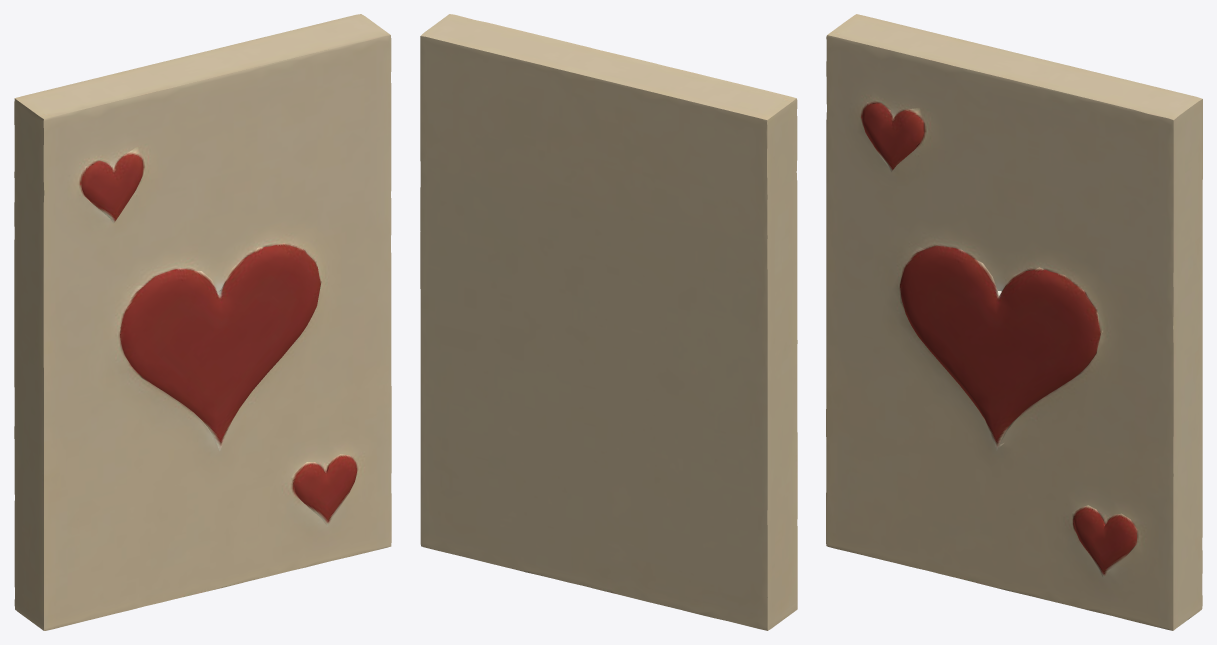
File: flying_card.glb
3 renders of one model, left to right at view 1: azimuth 30°, elevation 25°; view 2: azimuth 150°, elevation 25°; view 3: azimuth 330°, elevation 25°, orthographic.
Visible parts, largest first — view 1: flying_card; view 2: flying_card; view 3: flying_card.
Part boxes in pixels (box(x1,y1,x2,y2)): flying_card: box(14, 14, 391, 630); flying_card: box(420, 14, 797, 630); flying_card: box(826, 14, 1202, 630).
Size of the model in its own units: 0.3482 by 0.49 by 0.0593.
Materials: 1 (1 with a texture image).
